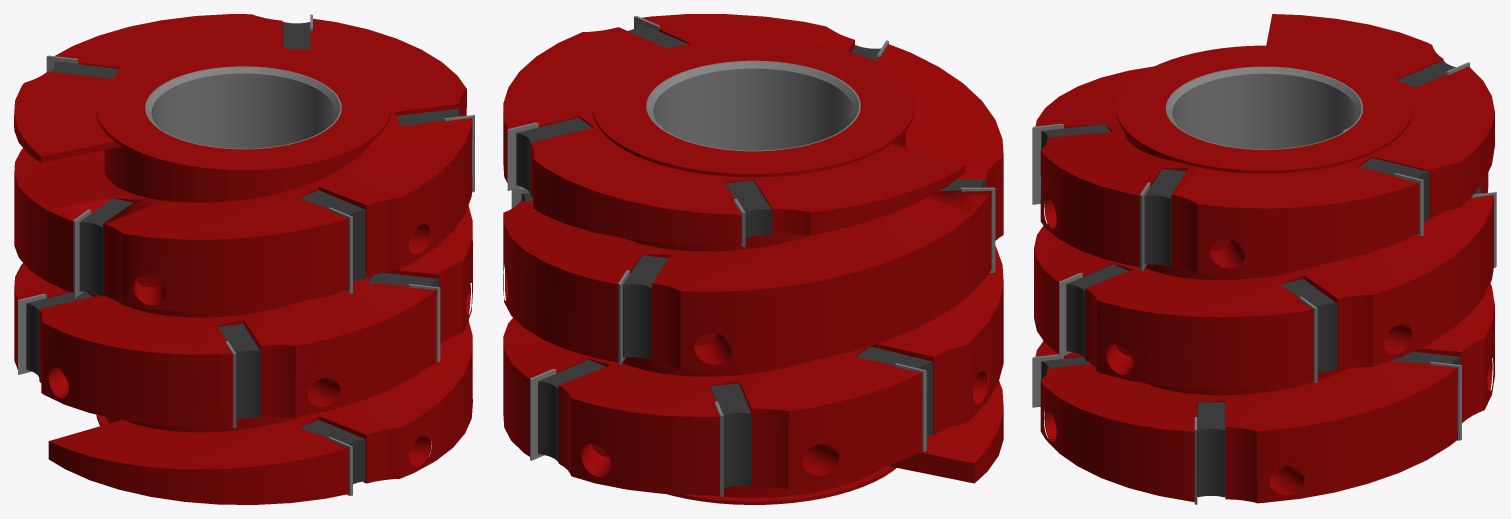
3 renders of one model, left to right at view 1: azimuth 30°, elevation 25°; view 2: azimuth 150°, elevation 25°; view 3: azimuth 270°, elevation 25°, orthographic. The views are drawn at different scales.
Visible parts, largest first — view 1: Helix019, Circle004, Circle002, Line042, Circle001, Object, Circle021; view 2: Helix019, Circle004, Circle002, Line042, Object, Circle001, Circle021, Circle003; view 3: Helix019, Circle004, Circle002, Line042, Object, Circle021, Circle001.
Boxes of the visible parts, <box> form: Helix019: <box>14,14,472,504</box>; Circle004: <box>96,45,390,173</box>; Circle002: <box>145,66,341,149</box>; Line042: <box>26,22,460,484</box>; Circle001: <box>104,141,372,432</box>; Object: <box>18,14,474,495</box>; Circle021: <box>47,223,470,466</box>; Helix019: <box>503,14,1003,495</box>; Circle004: <box>592,38,914,177</box>; Circle002: <box>646,60,860,151</box>; Line042: <box>516,24,985,487</box>; Object: <box>507,16,995,496</box>; Circle001: <box>622,132,905,497</box>; Circle021: <box>505,269,987,477</box>; Circle003: <box>667,466,896,504</box>; Helix019: <box>1034,14,1494,503</box>; Circle004: <box>1116,45,1412,173</box>; Circle002: <box>1165,66,1363,149</box>; Line042: <box>1041,60,1482,497</box>; Object: <box>1032,62,1496,504</box>; Circle021: <box>1044,197,1492,495</box>; Circle001: <box>1124,132,1347,395</box>.
Size of the model in its own units: 0.28 by 0.204 by 0.2822.
